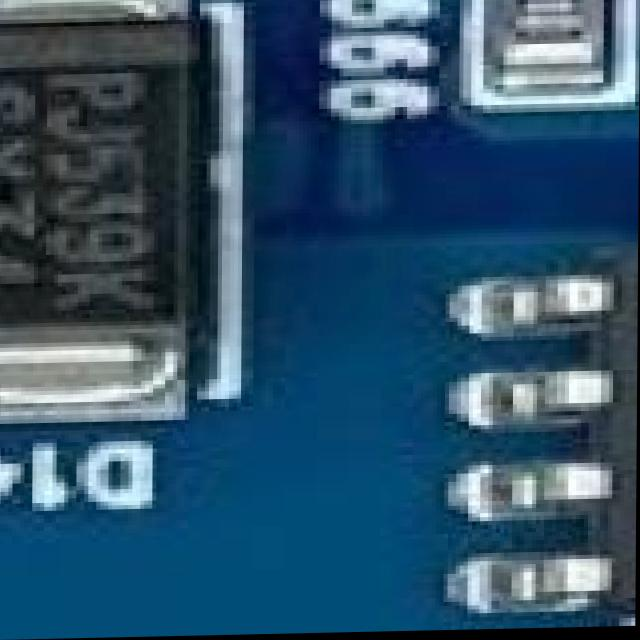IC: (484, 241, 639, 627)
diode: (0, 28, 256, 388)
resistor: (479, 0, 620, 104)
